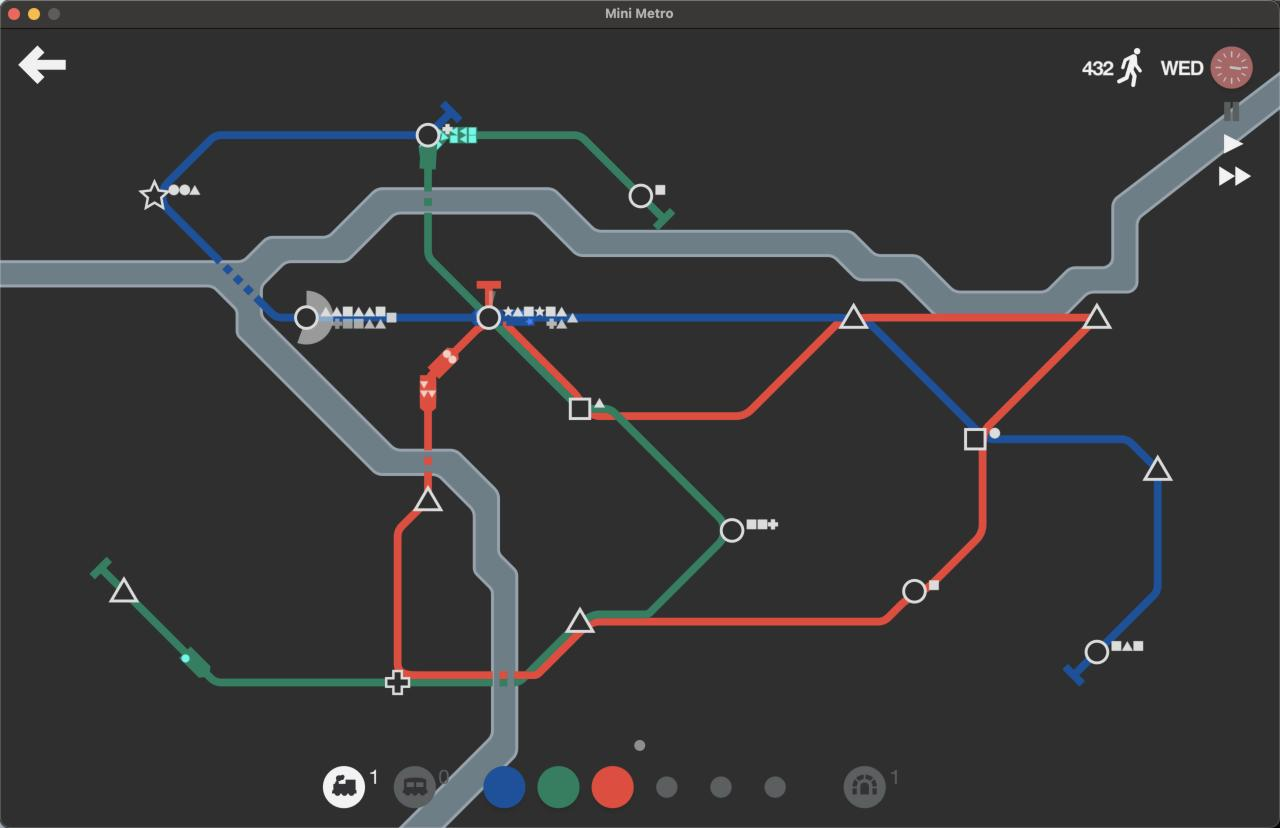CIRCLE: (628, 182, 654, 209), (719, 517, 745, 544), (293, 304, 319, 331), (901, 578, 927, 605), (474, 305, 502, 330), (415, 122, 441, 148), (1084, 638, 1110, 664)
CROSS: (383, 669, 411, 696)
SQUARE: (963, 427, 987, 451), (569, 397, 592, 421)
STAR: (139, 180, 169, 210)
TRIANGLE: (566, 606, 597, 634), (1142, 454, 1173, 482), (413, 485, 444, 513), (109, 576, 139, 604), (840, 302, 868, 329), (1084, 303, 1112, 329)
